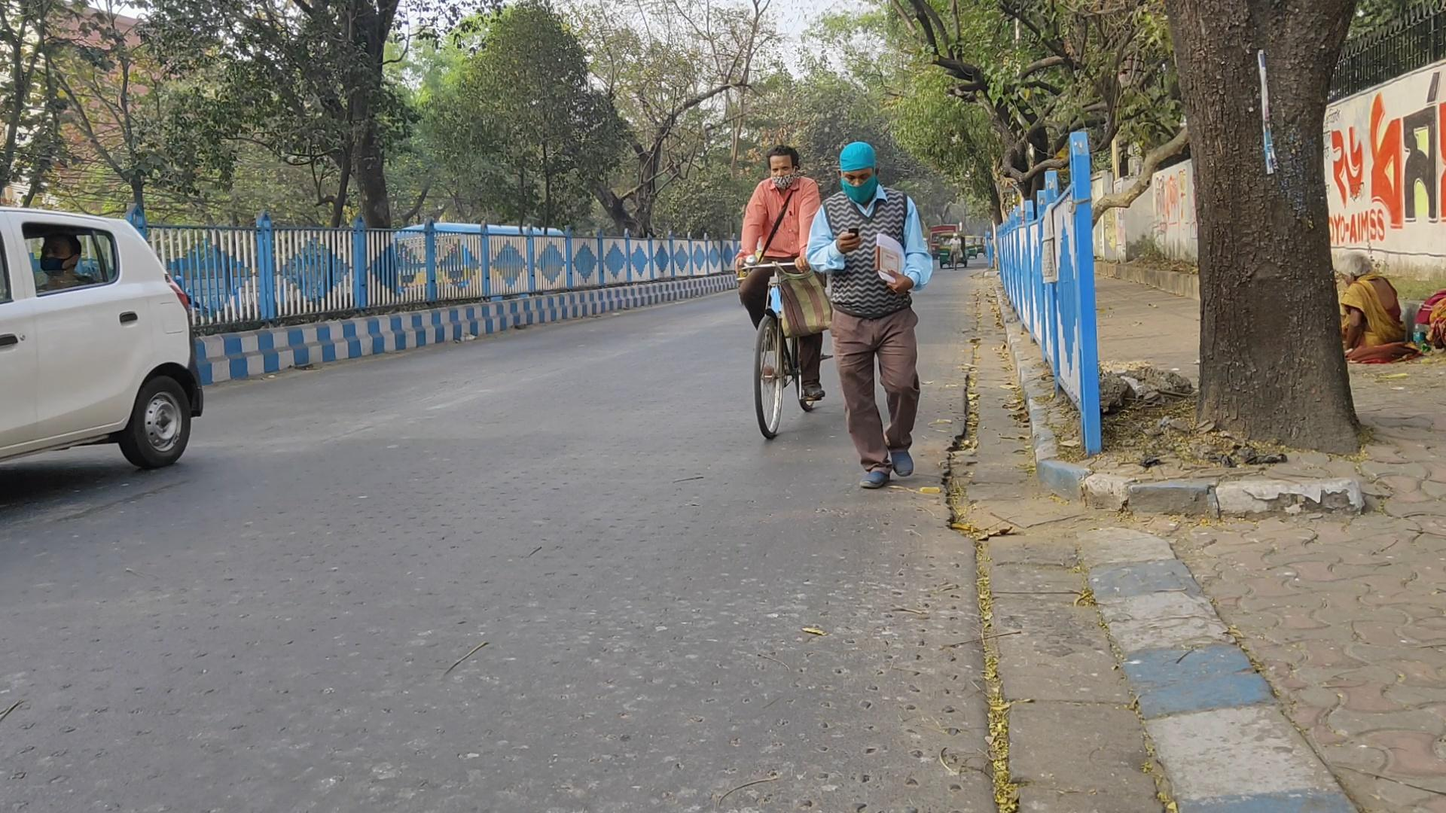Auto: (938, 232, 969, 268), (966, 234, 978, 260)
bike: (735, 145, 829, 439), (948, 232, 962, 271)
car: (1, 203, 206, 485)
van: (929, 224, 962, 261)
